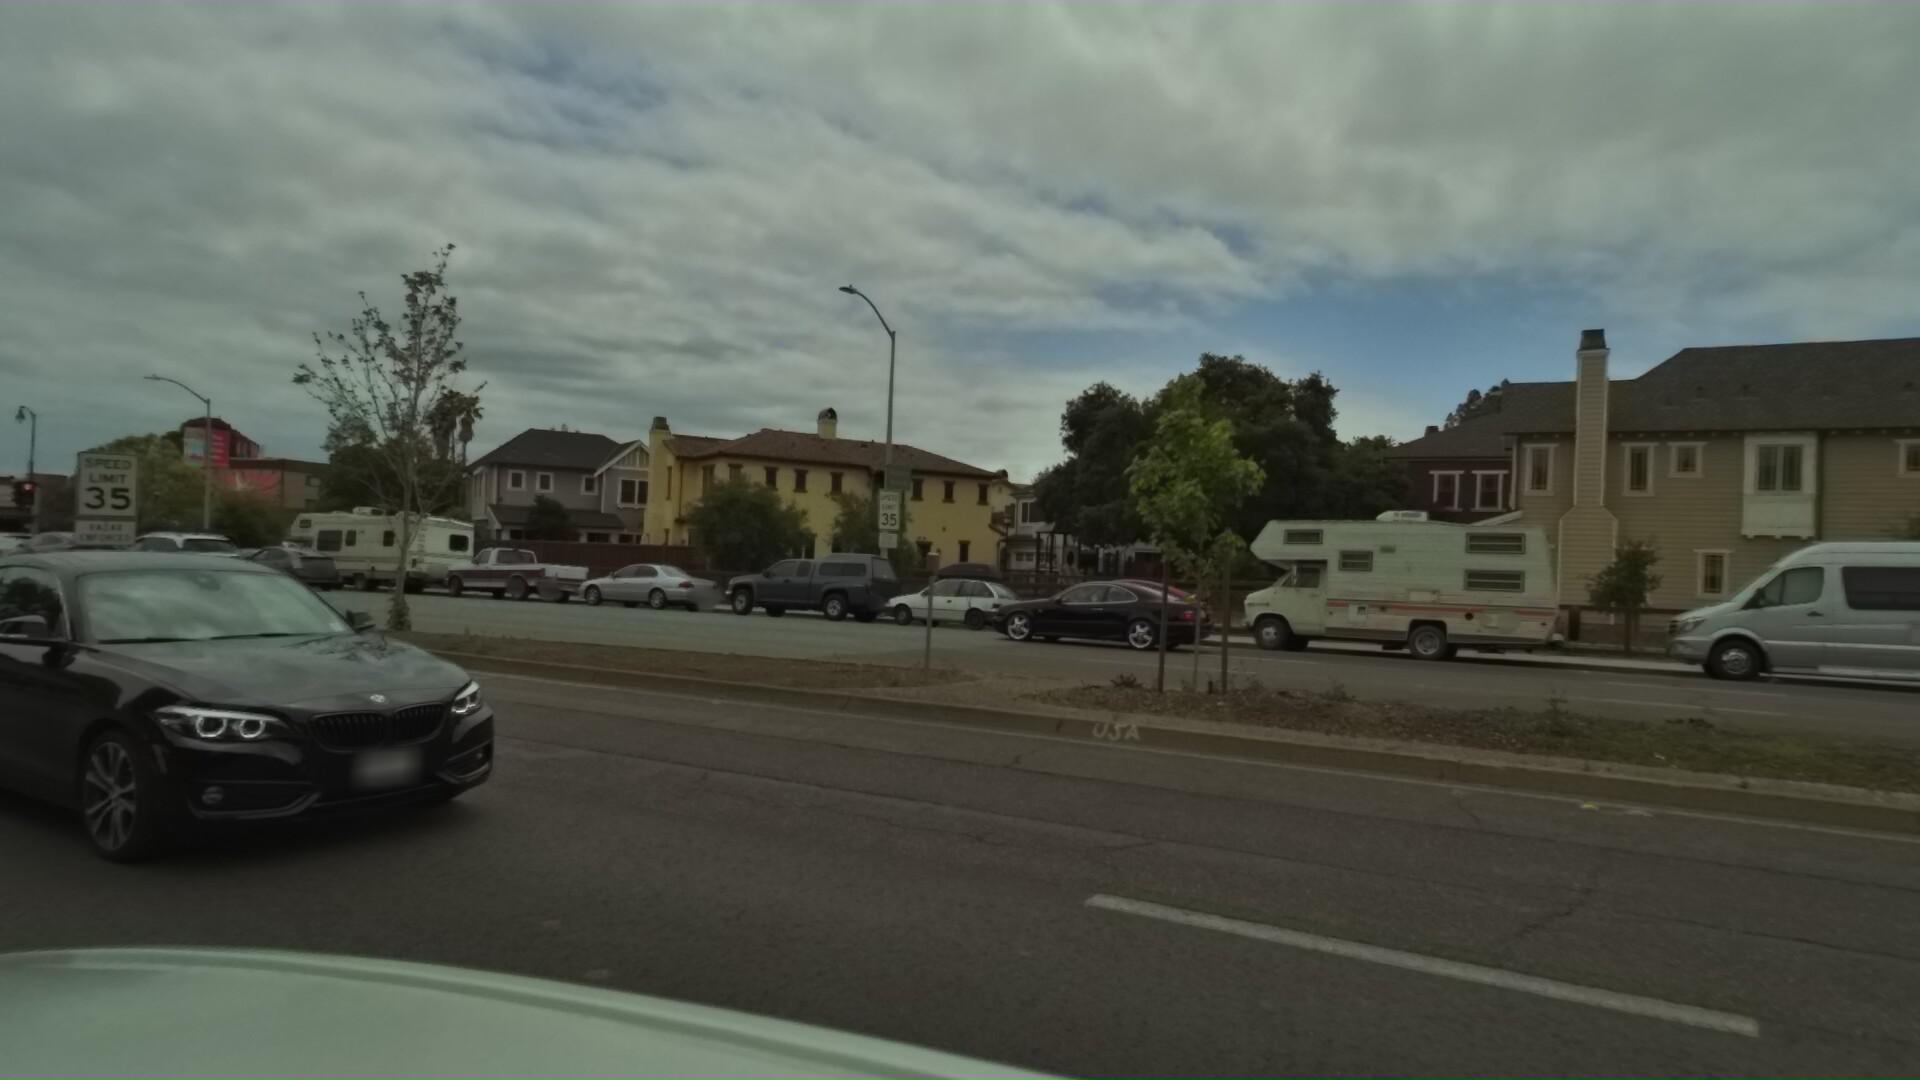car: (0, 477, 564, 891), (1611, 510, 1920, 713), (949, 571, 1179, 659), (695, 541, 891, 622), (994, 563, 1197, 640), (851, 553, 1013, 636), (426, 527, 589, 604), (87, 522, 252, 588), (553, 550, 716, 615), (102, 516, 249, 584), (0, 524, 131, 582), (208, 541, 338, 589), (0, 522, 50, 572), (0, 527, 42, 575)
other_vehicle: (1199, 500, 1552, 669), (266, 493, 477, 595)
